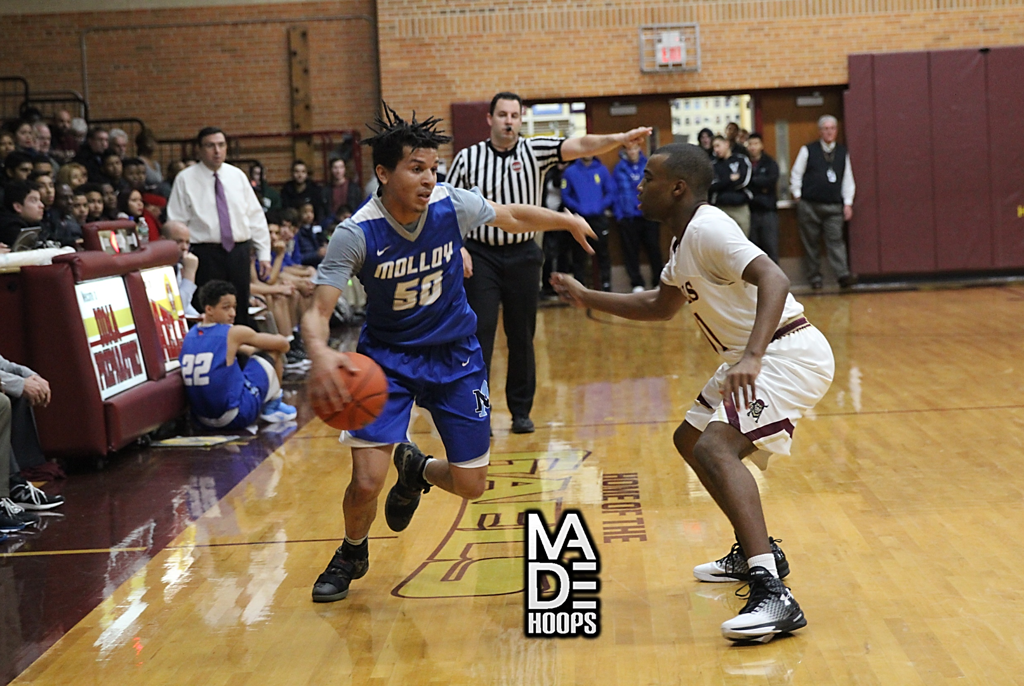ball: (309, 355, 388, 430)
player: (308, 116, 593, 602), (564, 142, 825, 641), (457, 89, 652, 433)
